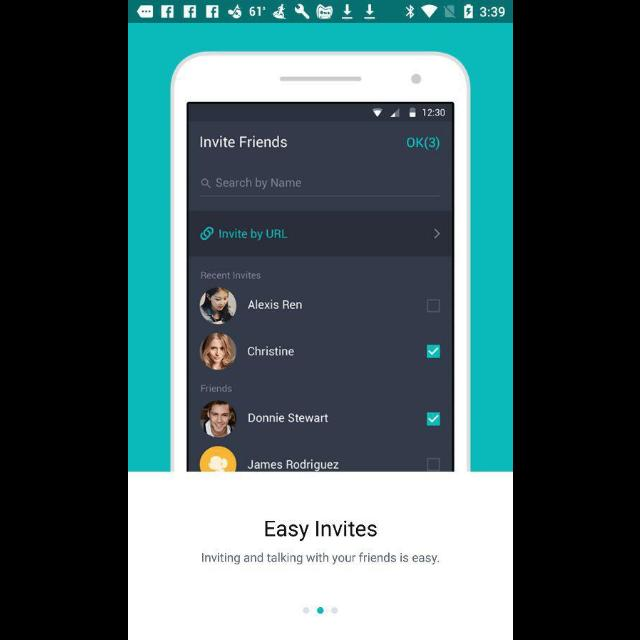image: (128, 24, 512, 472)
pageindicator: (302, 606, 338, 614)
text: (202, 552, 438, 564), (264, 520, 376, 542)
uppertaskbar: (128, 1, 512, 23)
